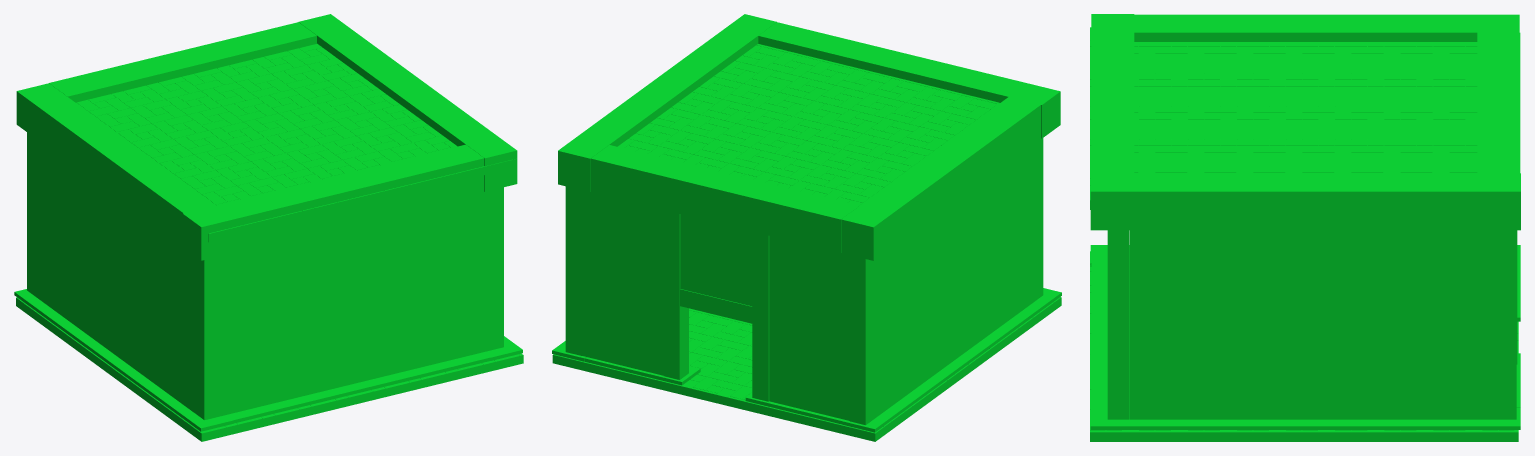
Rendered from fabricacasas2 3.fbx.
3 views of the same model, side by side, from view 1: azimuth 30°, elevation 25°; view 2: azimuth 150°, elevation 25°; view 3: azimuth 270°, elevation 25° (orthographic). The views are drawn at different scales.
Parts seen in each view (by area): view 1: Cube.056; view 2: Cube.056; view 3: Cube.056.
Part boxes in pixels (bbox=[...]): Cube.056: bbox=[14, 14, 523, 441]; Cube.056: bbox=[552, 14, 1061, 441]; Cube.056: bbox=[1090, 14, 1520, 441].
Bounding box in the file's own units: 2 × 2 × 1.27.
